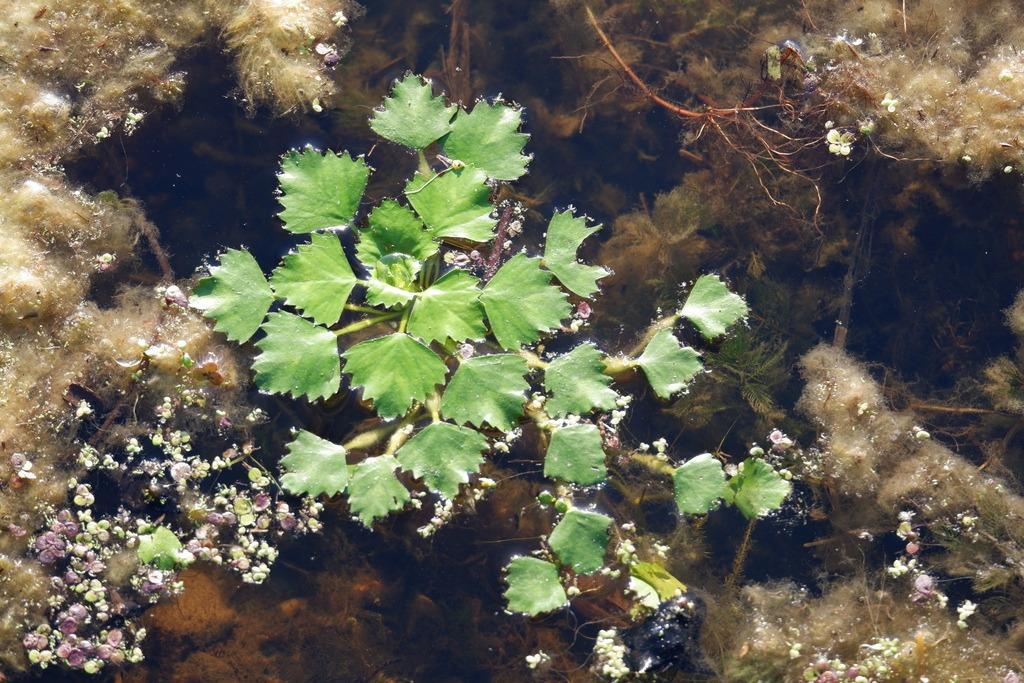water chestnut: (183, 69, 794, 616)
